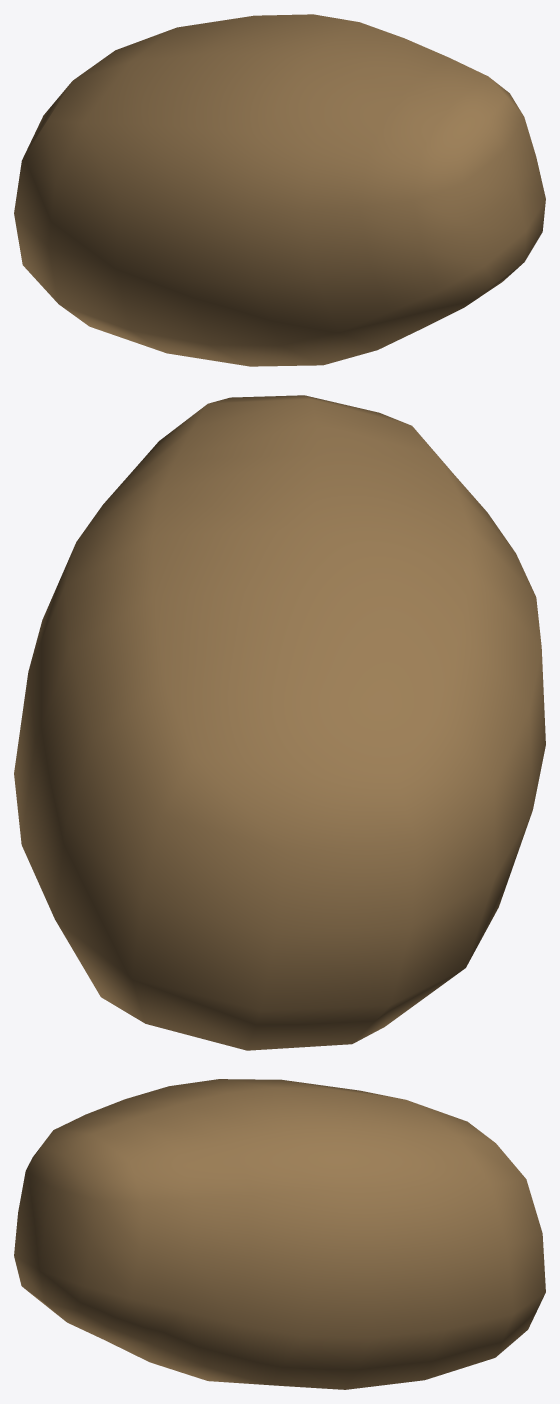
File: potato stage 0.glb
The picture shows the model from 3 angles, top to bottom: view 1: azimuth 30°, elevation 25°; view 2: azimuth 150°, elevation 25°; view 3: azimuth 270°, elevation 25°; orthographic projection. The views are drawn at different scales.
Parts seen in each view (by area): view 1: potato stage 0; view 2: potato stage 0; view 3: potato stage 0.
Part boxes in pixels (x1,y1,x2,y2): potato stage 0: (14,14,545,366); potato stage 0: (14,395,545,1050); potato stage 0: (14,1079,545,1389).
Size of the model in its own units: 0.9497 by 0.7374 by 1.24.
